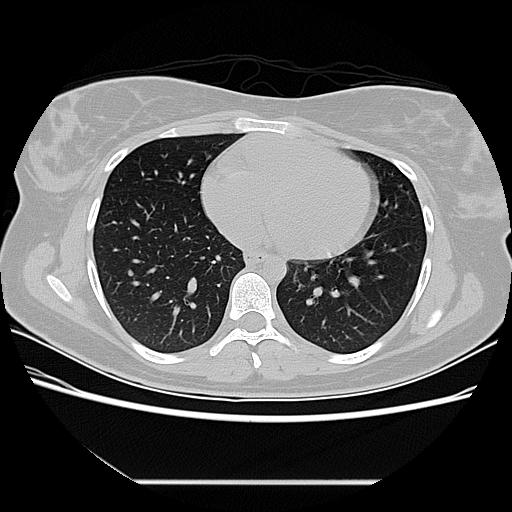nodule: (125, 267, 137, 279)
